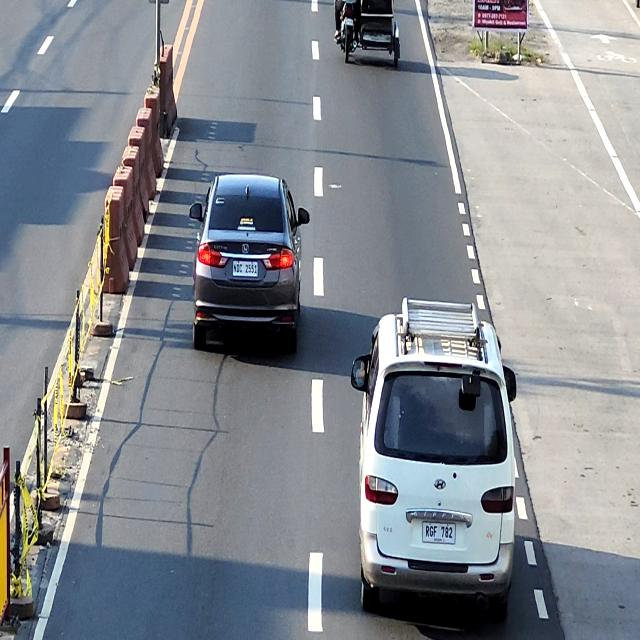Car: (350, 294, 516, 624), (190, 175, 311, 352)
License-Plate: (424, 523, 454, 544), (233, 261, 258, 277), (343, 18, 354, 26)
Tricycle: (338, 0, 399, 67)
